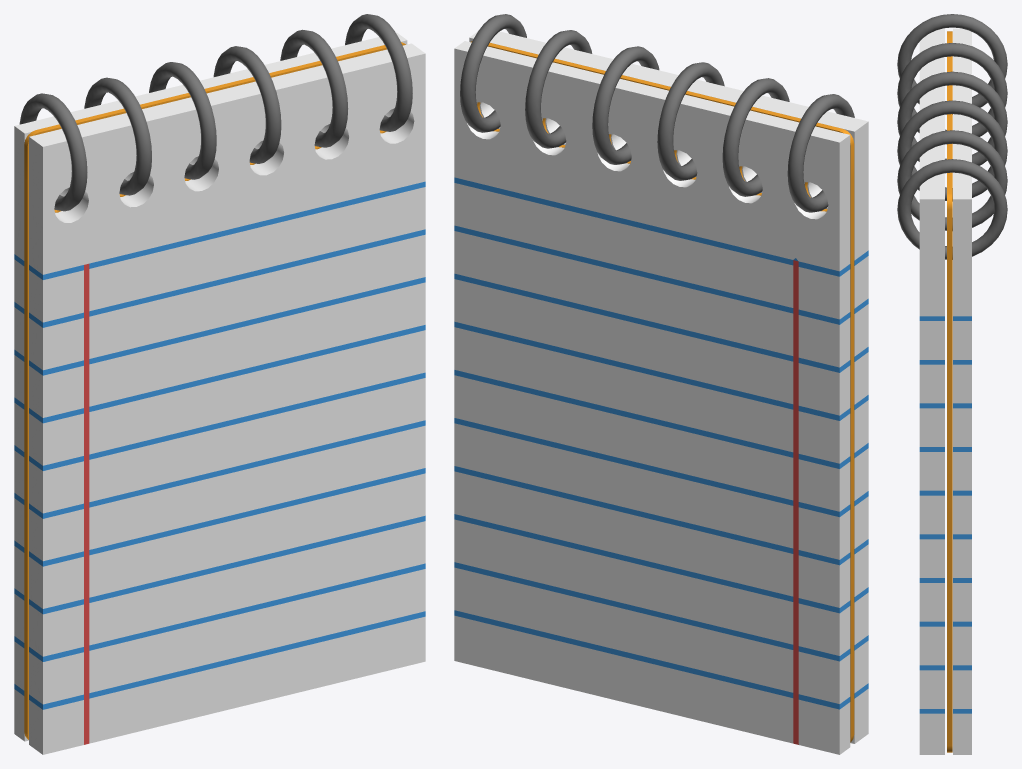
The model's file is spiral_notepad.glb.
The picture shows the model from 3 angles, left to right: view 1: azimuth 30°, elevation 25°; view 2: azimuth 150°, elevation 25°; view 3: azimuth 270°, elevation 25°; orthographic projection. The views are drawn at different scales.
Parts seen in each view (by area): view 1: Circle.2567; view 2: Circle.2567; view 3: Circle.2567.
Part boxes in pixels (left/top/right/bottom): Circle.2567: left=14, top=14, right=425, bottom=754; Circle.2567: left=454, top=14, right=868, bottom=754; Circle.2567: left=897, top=14, right=1007, bottom=754.
Bounding box in the file's own units: 1.5 × 2.39 × 0.4088.
1 material, 1 textured.
